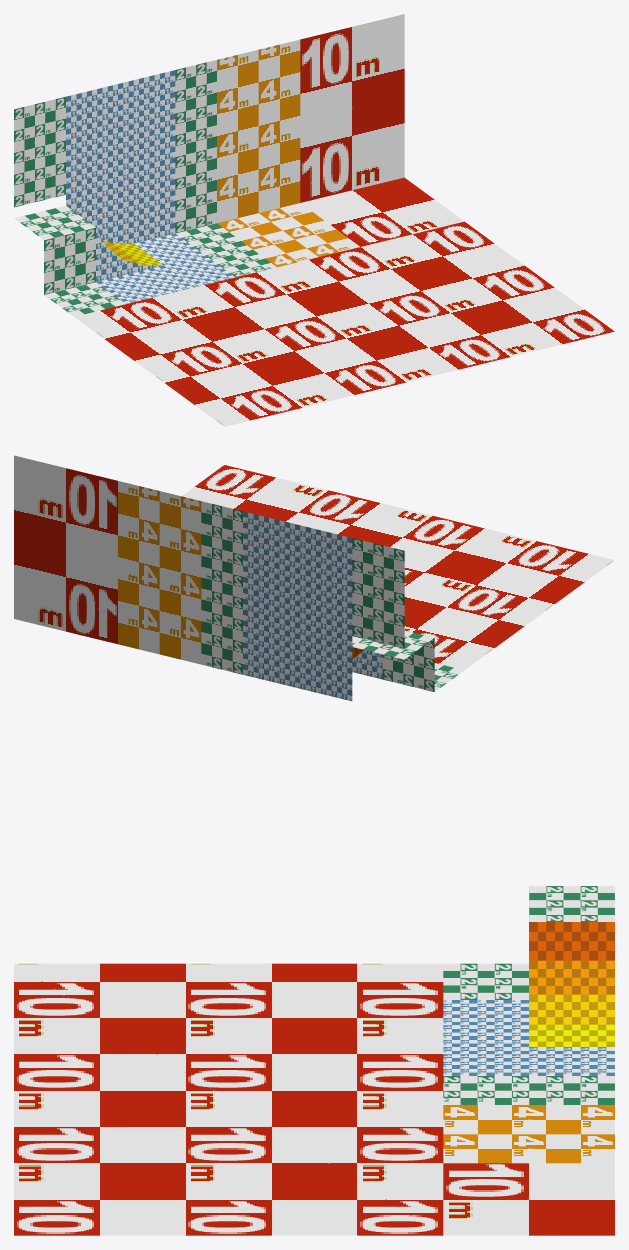
Rendered from alphazone.obj.
The picture shows the model from 3 angles, top to bottom: view 1: azimuth 30°, elevation 25°; view 2: azimuth 150°, elevation 25°; view 3: azimuth 270°, elevation 25°; orthographic projection. The views are drawn at different scales.
Size of the model in its own units: 75 by 30 by 70.
8 materials, 8 textured.
